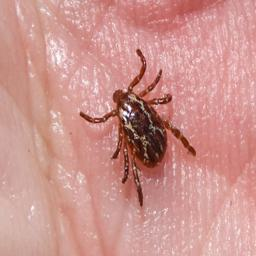Dermacentor variabilis: (66, 86, 158, 229)
